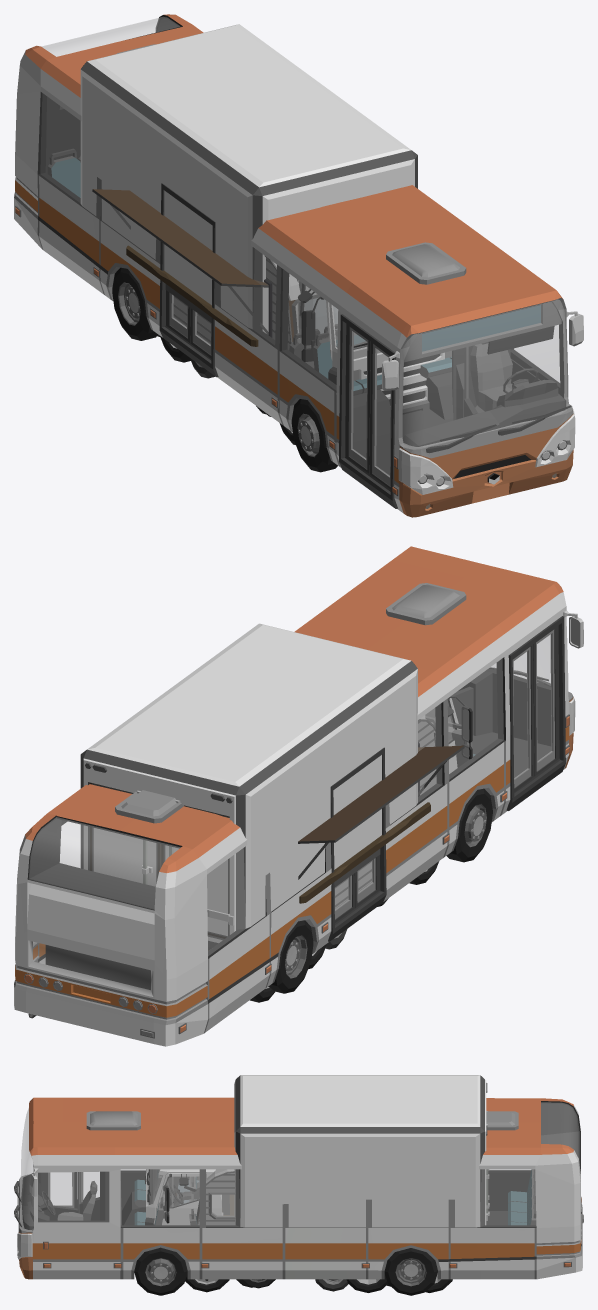
The model's file is vehicles.glb.
The picture shows the model from 3 angles, top to bottom: view 1: azimuth 30°, elevation 25°; view 2: azimuth 150°, elevation 25°; view 3: azimuth 270°, elevation 25°; orthographic projection. The views are drawn at different scales.
Parts seen in each view (by area): view 1: city-bus, box-truck, food-trailer; view 2: city-bus, box-truck, food-trailer; view 3: city-bus, box-truck, food-trailer.
Boxes of the visible parts, <box> form: city-bus: <box>14,14,583,517</box>; box-truck: <box>80,24,451,444</box>; food-trailer: <box>92,189,337,378</box>; city-bus: <box>14,546,583,1046</box>; box-truck: <box>80,623,472,1002</box>; food-trailer: <box>298,717,464,949</box>; city-bus: <box>14,1097,583,1295</box>; box-truck: <box>145,1075,489,1292</box>; food-trailer: <box>196,1169,348,1291</box>.
Bounding box in the file's own units: 3.58 × 3.76 × 11.43.
Materials: 2 (1 with a texture image).
